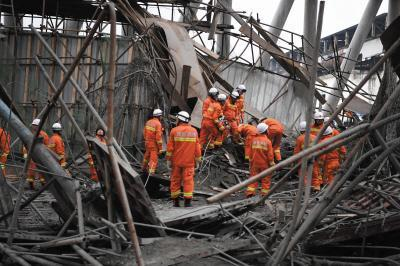helmet: (176, 108, 190, 127), (298, 117, 310, 137), (314, 107, 325, 127), (31, 115, 43, 133), (257, 123, 271, 138), (207, 85, 219, 101), (235, 81, 248, 95), (51, 121, 63, 136), (152, 106, 163, 122), (217, 92, 227, 107)
